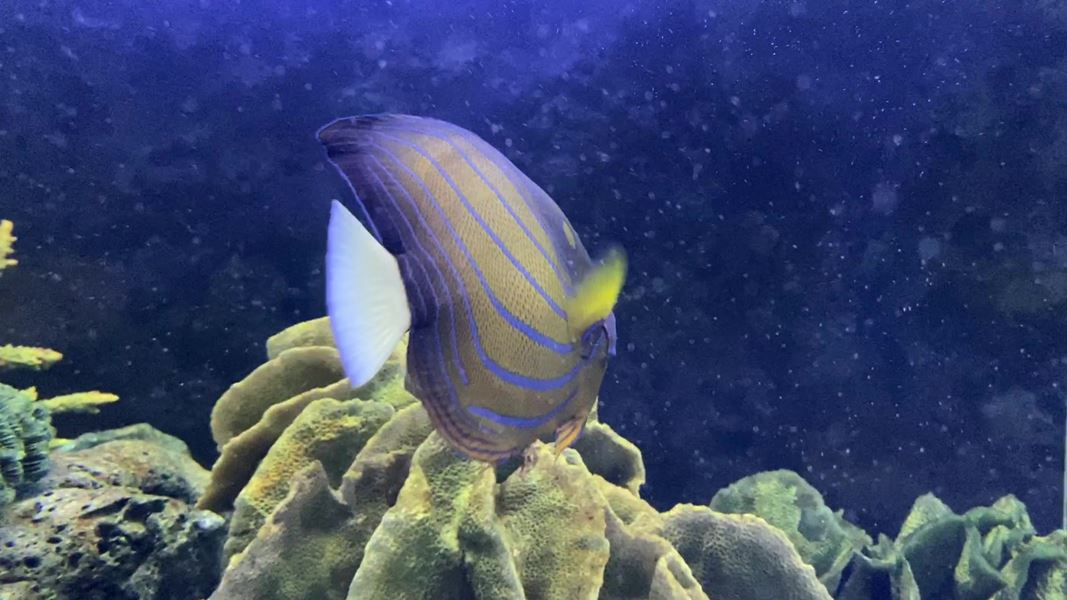Blue ring angelfish: (286, 107, 640, 485)
